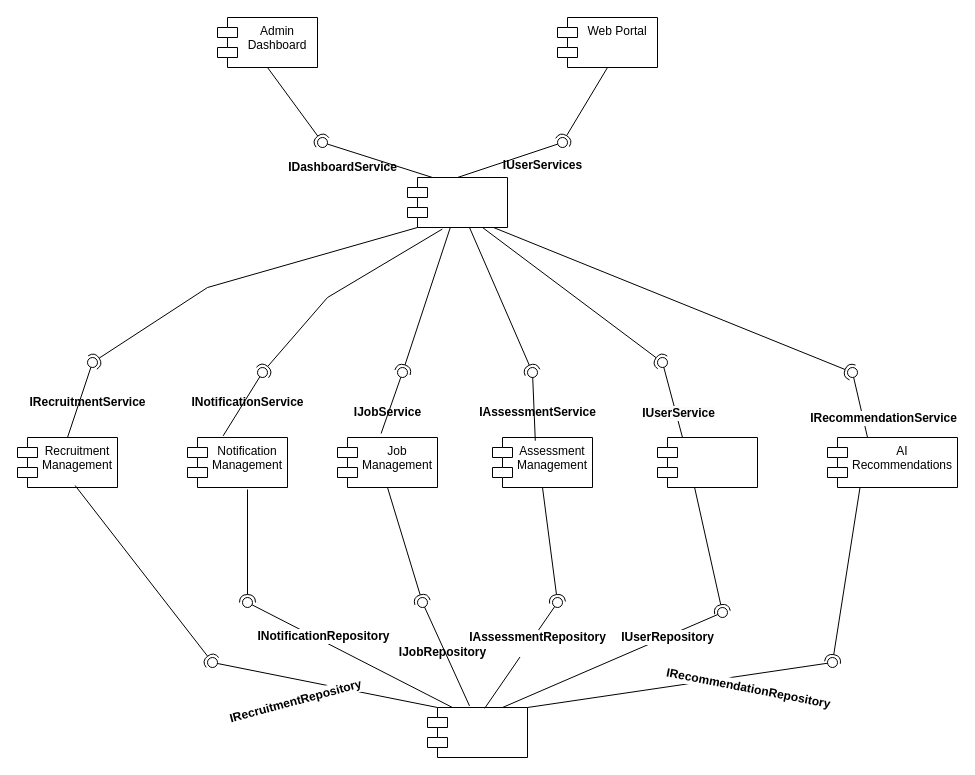
Some shapes in this 975 by 775 pixel diagram are drawn without their labels. The shapes that lost their labels are listed below. From the top down, each one's centre as x and y in pixels, then its label:
At (x=457, y=202): "API Gateway".
At (x=707, y=462): "User Management".
At (x=477, y=732): "Data Access".
